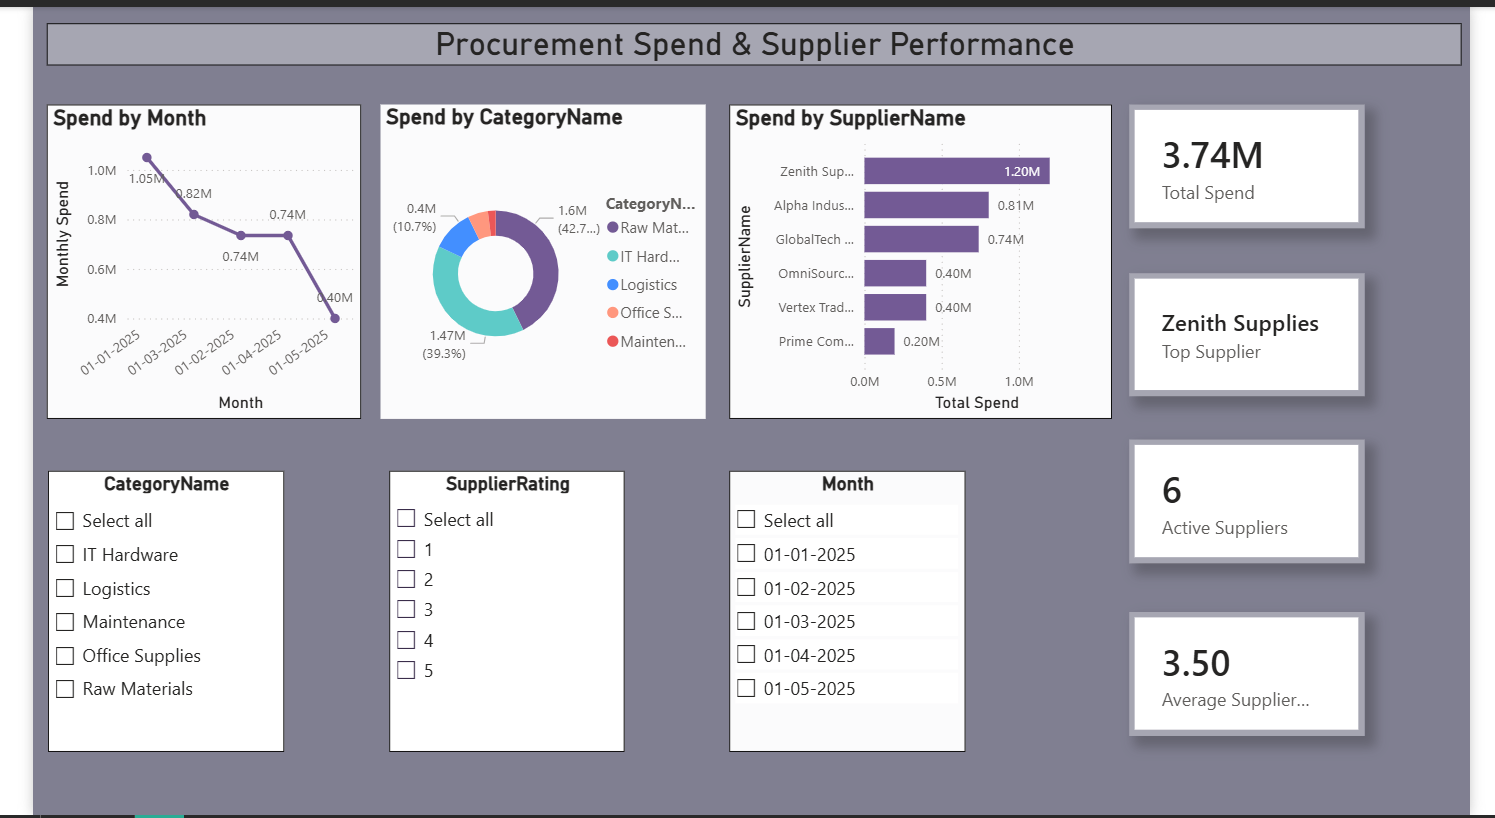

What the dashboard file says about the page in this screenshot:
{"tool":"powerbi","page":{"name":"Page 1","canvas":[1280,720],"ordinal":0},"visuals":[{"type":"donutChart","title":"Spend by CategoryName","fields":{"Category":["Procurement Spend.CategoryName"],"Y":["Procurement Spend.Total Spend"]},"box":[309.2,87.1,289.6,279.8],"z":0},{"type":"lineChart","title":"Spend by Month","fields":{"Y":["Procurement Spend.Monthly Spend"],"Category":["Procurement Spend.Month"]},"box":[12.4,87.1,279.9,279.9],"z":1000},{"type":"clusteredBarChart","title":"Spend by SupplierName","fields":{"Category":["Procurement Spend.SupplierName"],"Y":["Procurement Spend.Total Spend"]},"box":[619.6,87.1,341.1,279.8],"z":2000},{"type":"listSlicer","fields":{"Values":["Procurement Spend.SupplierRating"]},"box":[317.8,413.5,209.8,250.3],"z":3000},{"type":"listSlicer","fields":{"Values":["Procurement Spend.CategoryName"]},"box":[13.5,413.5,210,250],"z":4000},{"type":"listSlicer","fields":{"Values":["Procurement Spend.Month"]},"box":[619.6,413.5,210,250],"z":5000},{"type":"cardVisual","title":"Total Spend","fields":{"Data":["Procurement Spend.Total Spend"]},"box":[976.7,87.1,209.8,110.4],"z":6000},{"type":"cardVisual","fields":{"Data":["Procurement Spend.Active Suppliers"]},"box":[976.7,385.3,209.8,110.4],"z":7000},{"type":"cardVisual","title":"Avg Supplier Rating","fields":{"Data":["Procurement Spend.Average Supplier Rating"]},"box":[976.7,538.7,209.8,110.4],"z":8000},{"type":"cardVisual","title":"Top Supplier","fields":{"Data":["Procurement Spend.Top Supplier"]},"box":[976.7,236.8,209.8,109.2],"z":9000},{"type":"textbox","title":"Procurement Spend & Supplier Performance","box":[12.4,14.9,1260.1,37.3],"z":10000}]}

Visuals, with their boxes in screenshot pixels (x1, y1, x2, y2), scaled from the page's 1280x720 canvas onto the 1495x818 screenshot:
"Spend by CategoryName" donutChart: rect(361, 99, 699, 417)
"Spend by Month" lineChart: rect(14, 99, 341, 417)
"Spend by SupplierName" clusteredBarChart: rect(724, 99, 1122, 417)
listSlicer - Procurement Spend.SupplierRating: rect(371, 470, 616, 754)
listSlicer - Procurement Spend.CategoryName: rect(16, 470, 261, 754)
listSlicer - Procurement Spend.Month: rect(724, 470, 969, 754)
"Total Spend" cardVisual: rect(1141, 99, 1386, 224)
cardVisual - Procurement Spend.Active Suppliers: rect(1141, 438, 1386, 563)
"Avg Supplier Rating" cardVisual: rect(1141, 612, 1386, 737)
"Top Supplier" cardVisual: rect(1141, 269, 1386, 393)
"Procurement Spend & Supplier Performance" textbox: rect(14, 17, 1486, 59)
